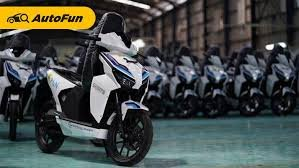motor: (36, 34, 168, 150)
